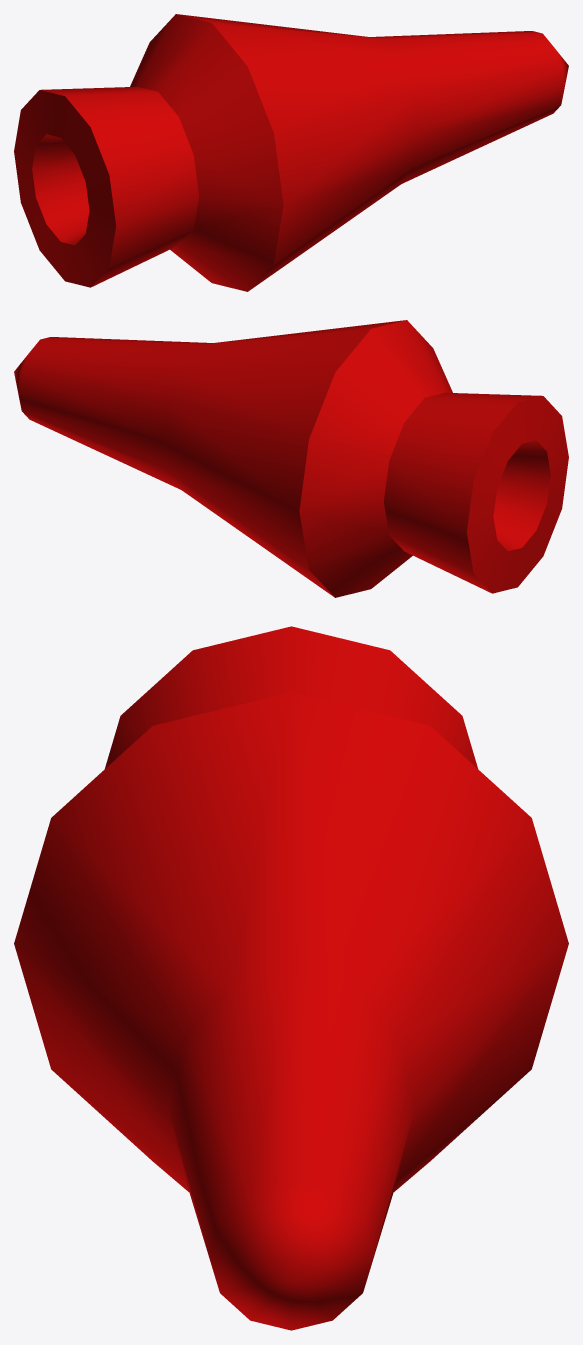
The model's file is Rocket.obj.
3 renders of one model, top to bottom at view 1: azimuth 30°, elevation 25°; view 2: azimuth 150°, elevation 25°; view 3: azimuth 270°, elevation 25°, orthographic. The views are drawn at different scales.
Visible parts, largest first — view 1: Handle; view 2: Handle; view 3: Handle.
Boxes of the visible parts, x1,y1,x2,y2 form: Handle: [14, 14, 568, 291]; Handle: [14, 320, 568, 597]; Handle: [14, 626, 568, 1330].
Bounding box in the file's own units: 1.27 × 0.6227 × 0.6227.
